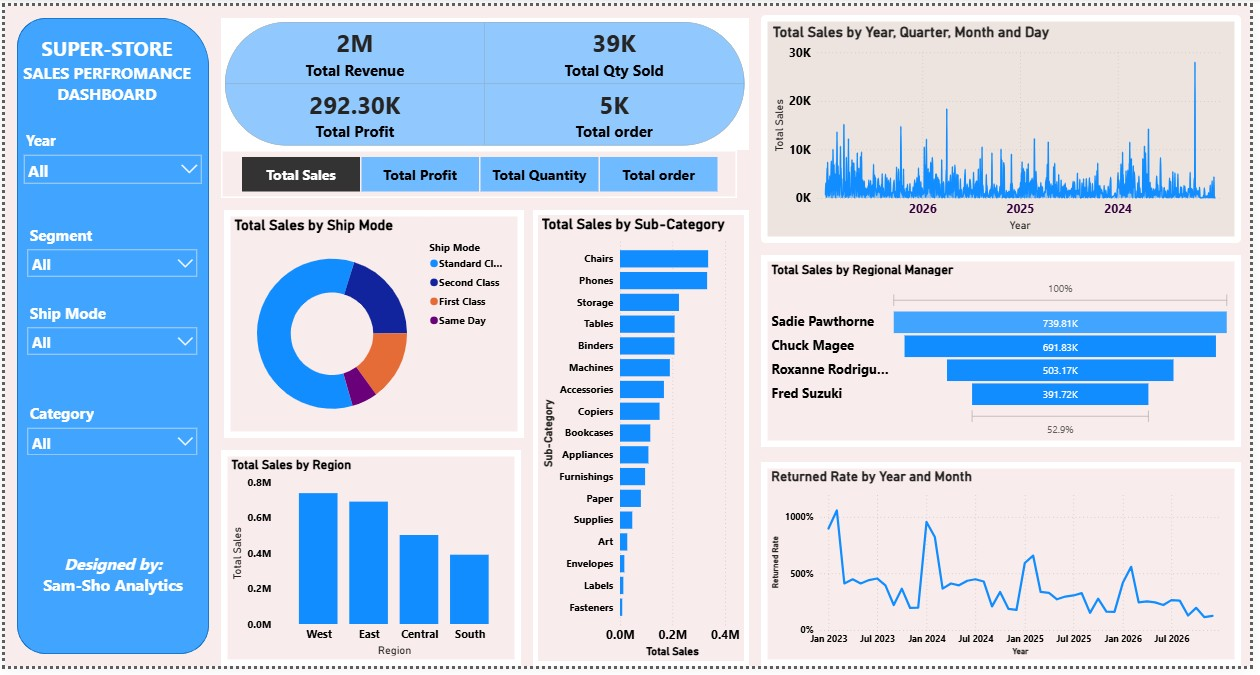

The page's visual inventory and layout, read from the dashboard file:
{"tool":"powerbi","page":{"name":"Page 1","canvas":[1660,880],"ordinal":0},"visuals":[{"type":"shape","box":[16,16,256,848],"z":0},{"type":"cardVisual","fields":{"Data":["Fact_sales.Total Sales","Fact_sales.Total Profit","Fact_sales.Total Quantity","Fact_sales.Total order"]},"box":[288,16,704,176],"z":1000},{"type":"slicer","fields":{"Values":["DimDate.Date.Variation.Date Hierarchy.Year","DimDate.Date.Variation.Date Hierarchy.Quarter","DimDate.Date.Variation.Date Hierarchy.Month","DimDate.Date.Variation.Date Hierarchy.Day"]},"box":[16,160,256,96],"z":2000},{"type":"columnChart","fields":{"Y":["Fact_sales.Total order"],"Category":["Dim_People.Region"]},"box":[288,592,400,288],"z":3000},{"type":"clusteredBarChart","fields":{"Y":["Fact_sales.Total order"],"Category":["Dim_product.Sub-Category"]},"box":[704,272,288,608],"z":4000},{"type":"lineChart","fields":{"Y":["Fact_sales.Total order"],"Category":["DimDate.Date.Variation.Date Hierarchy.Year","DimDate.Date.Variation.Date Hierarchy.Quarter","DimDate.Date.Variation.Date Hierarchy.Month","DimDate.Date.Variation.Date Hierarchy.Day"]},"box":[1007.3,11.9,640,304],"z":5000},{"type":"funnel","fields":{"Y":["Fact_sales.Total order"],"Category":["Dim_People.Regional Manager"]},"box":[1007.3,331.9,640,256],"z":6000},{"type":"lineChart","fields":{"Y":["DimDate.Returned Rate"],"Category":["DimDate.Date.Variation.Date Hierarchy.Year","DimDate.Date.Variation.Date Hierarchy.Month"]},"box":[1008,608,640,272],"z":7000},{"type":"slicer","fields":{"Values":["Parameter.Parameter"]},"box":[288,192,688,64],"z":8000},{"type":"donutChart","fields":{"Y":["Fact_sales.Total order"],"Category":["Dim_shipmode.Ship Mode"]},"box":[292,272,400,304],"z":9000},{"type":"textbox","box":[32,32,208,112],"z":10000},{"type":"slicer","fields":{"Values":["Dim_Customer.Segment"]},"box":[19.9,285.9,246.1,104.4],"z":11000},{"type":"slicer","fields":{"Values":["Dim_shipmode.Ship Mode"]},"box":[19.9,390.3,246.1,101.9],"z":12000},{"type":"slicer","fields":{"Values":["Dim_product.Category"]},"box":[19.9,524.6,246.1,101.9],"z":13000},{"type":"textbox","box":[48,704,176,80],"z":14000}]}

Visuals, with their boxes in screenshot pixels (x1, y1, x2, y2), scaled from the page's 1660x880 canvas onto the 1260x675 screenshot:
shape: (left=12, top=12, right=206, bottom=663)
cardVisual - Fact_sales.Total Sales x Fact_sales.Total Profit: (left=219, top=12, right=753, bottom=147)
slicer - DimDate.Date.Variation.Date Hierarchy.Year x DimDate.Date.Variation.Date Hierarchy.Quarter: (left=12, top=123, right=206, bottom=196)
columnChart - Fact_sales.Total order x Dim_People.Region: (left=219, top=454, right=522, bottom=674)
clusteredBarChart - Fact_sales.Total order x Dim_product.Sub-Category: (left=534, top=209, right=753, bottom=674)
lineChart - Fact_sales.Total order x DimDate.Date.Variation.Date Hierarchy.Year: (left=765, top=9, right=1250, bottom=242)
funnel - Fact_sales.Total order x Dim_People.Regional Manager: (left=765, top=255, right=1250, bottom=451)
lineChart - DimDate.Returned Rate x DimDate.Date.Variation.Date Hierarchy.Year: (left=765, top=466, right=1251, bottom=674)
slicer - Parameter.Parameter: (left=219, top=147, right=741, bottom=196)
donutChart - Fact_sales.Total order x Dim_shipmode.Ship Mode: (left=222, top=209, right=525, bottom=442)
textbox: (left=24, top=25, right=182, bottom=110)
slicer - Dim_Customer.Segment: (left=15, top=219, right=202, bottom=299)
slicer - Dim_shipmode.Ship Mode: (left=15, top=299, right=202, bottom=378)
slicer - Dim_product.Category: (left=15, top=402, right=202, bottom=481)
textbox: (left=36, top=540, right=170, bottom=601)
